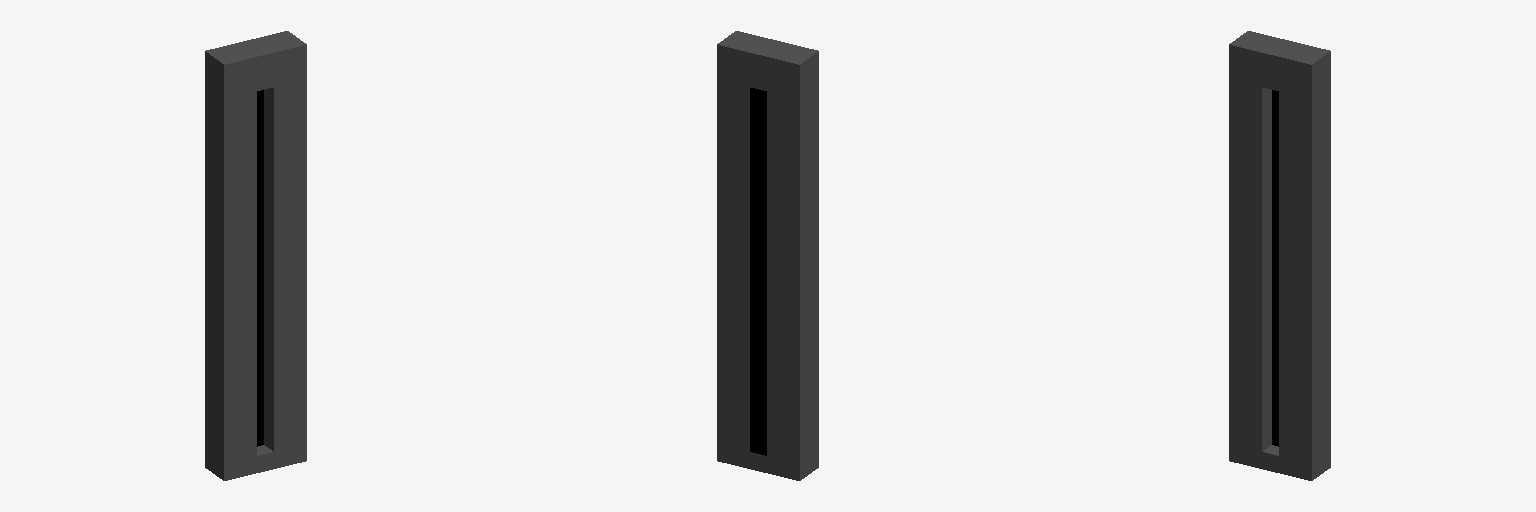
3 renders of one model, left to right at view 1: azimuth 30°, elevation 25°; view 2: azimuth 150°, elevation 25°; view 3: azimuth 330°, elevation 25°, orthographic.
Parts seen in each view (by area): view 1: object 1; view 2: object 1; view 3: object 1.
Part boxes in pixels (x1,y1,x2,y2): object 1: (205,31,306,480); object 1: (717,31,818,480); object 1: (1229,31,1330,480).
Bounding box in the file's own units: 0.5 × 2.4 × 0.2.
1 materials, 1 textured.